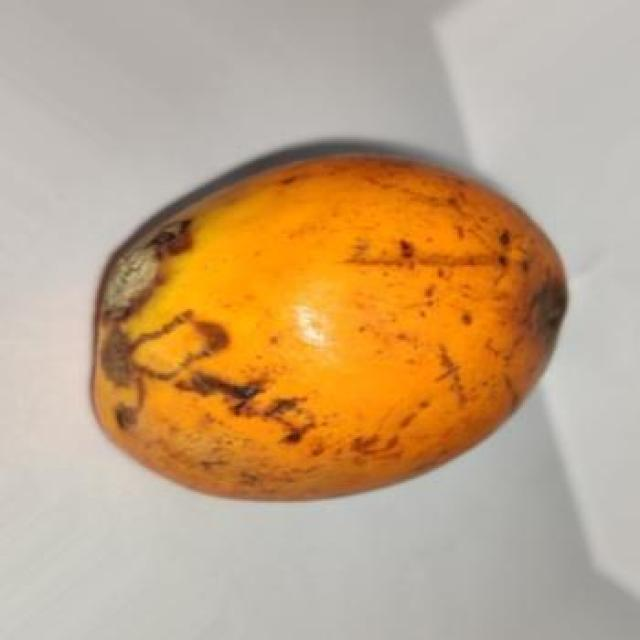good: (88, 148, 571, 505)
